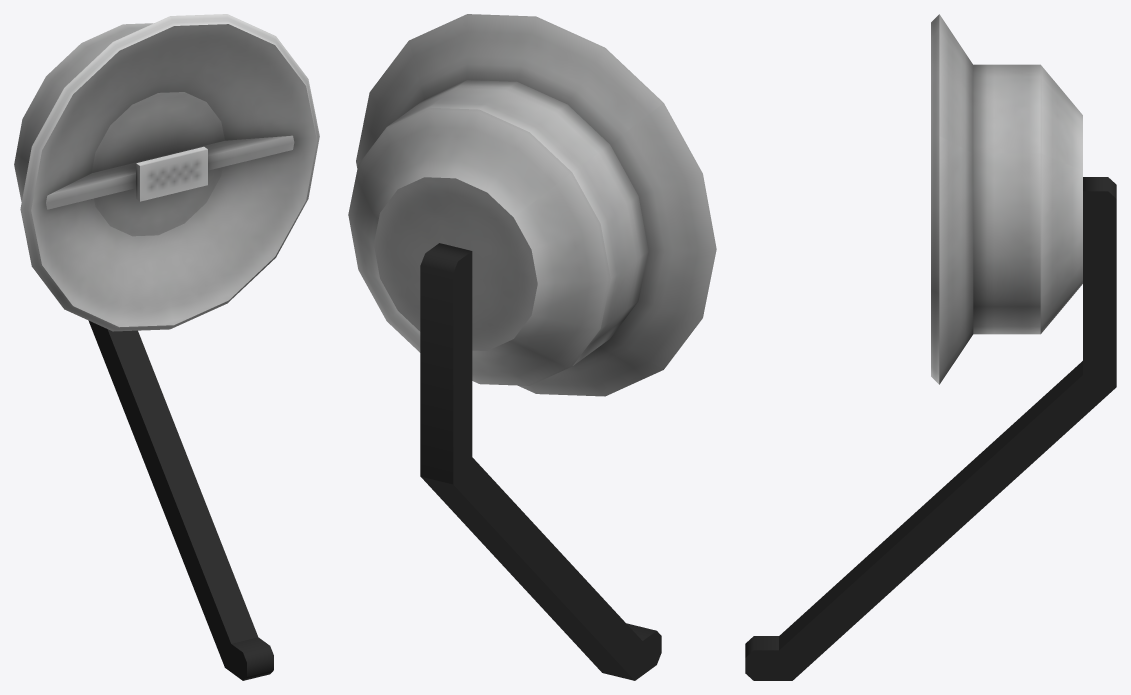
File: Tantares_Antenna_1.obj
3 views of the same model, side by side, from view 1: azimuth 30°, elevation 25°; view 2: azimuth 150°, elevation 25°; view 3: azimuth 270°, elevation 25° (orthographic). The views are drawn at different scales.
Parts seen in each view (by area): view 1: Tantares_Antenna_1; view 2: Tantares_Antenna_1; view 3: Tantares_Antenna_1.
Boxes of the visible parts, x1,y1,x2,y2 form: Tantares_Antenna_1: [14, 14, 319, 680]; Tantares_Antenna_1: [348, 14, 716, 680]; Tantares_Antenna_1: [745, 14, 1116, 680].
Bounding box in the file's own units: 0.275 × 0.525 × 0.275.
